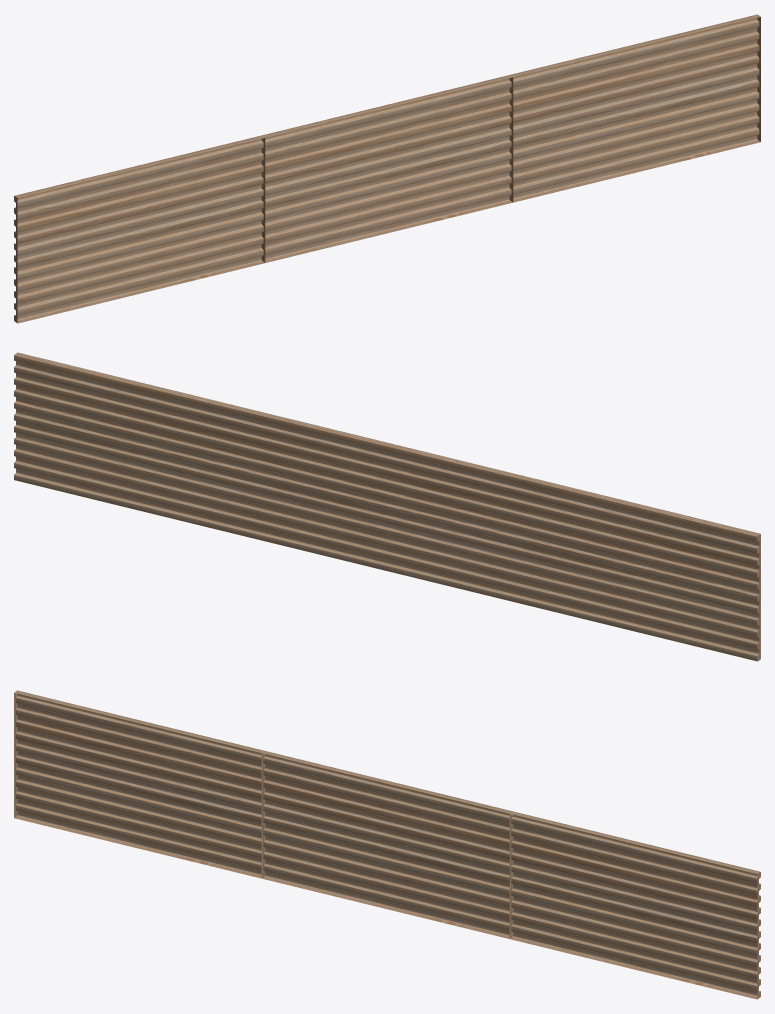
File: Table_Front.fbx
3 renders of one model, top to bottom at view 1: azimuth 30°, elevation 25°; view 2: azimuth 150°, elevation 25°; view 3: azimuth 330°, elevation 25°, orthographic.
Parts seen in each view (by area): view 1: Table_Front; view 2: Table_Front; view 3: Table_Front.
Part boxes in pixels (x1,y1,x2,y2): Table_Front: [14, 14, 760, 323]; Table_Front: [14, 352, 760, 661]; Table_Front: [14, 690, 760, 999].
Bounding box in the file's own units: 750 × 121 × 6.42.
Materials: 1 (1 with a texture image).
